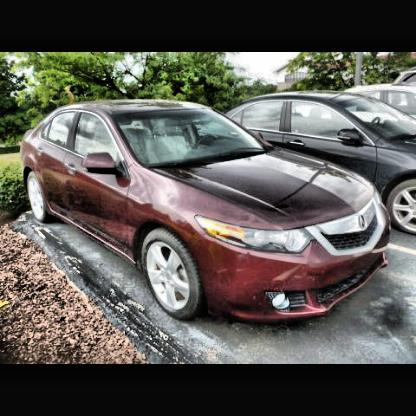Acura TSX Sedan 2012: (22, 102, 390, 327)
